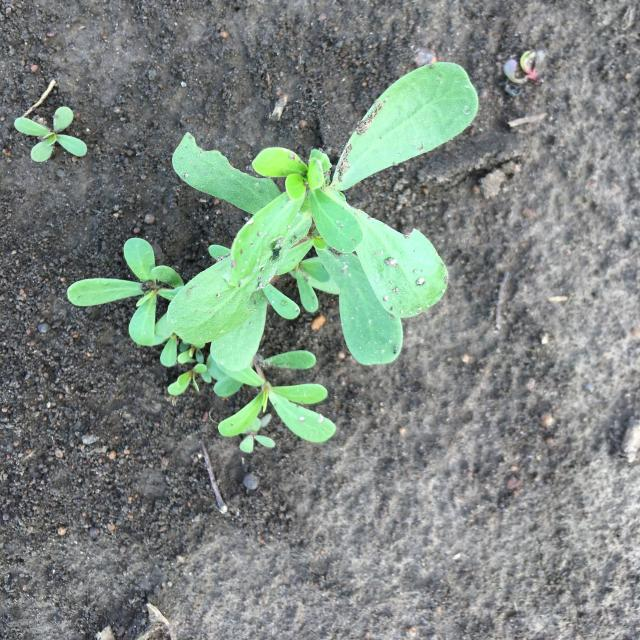Purslane: (68, 62, 479, 452), (14, 106, 87, 162)
